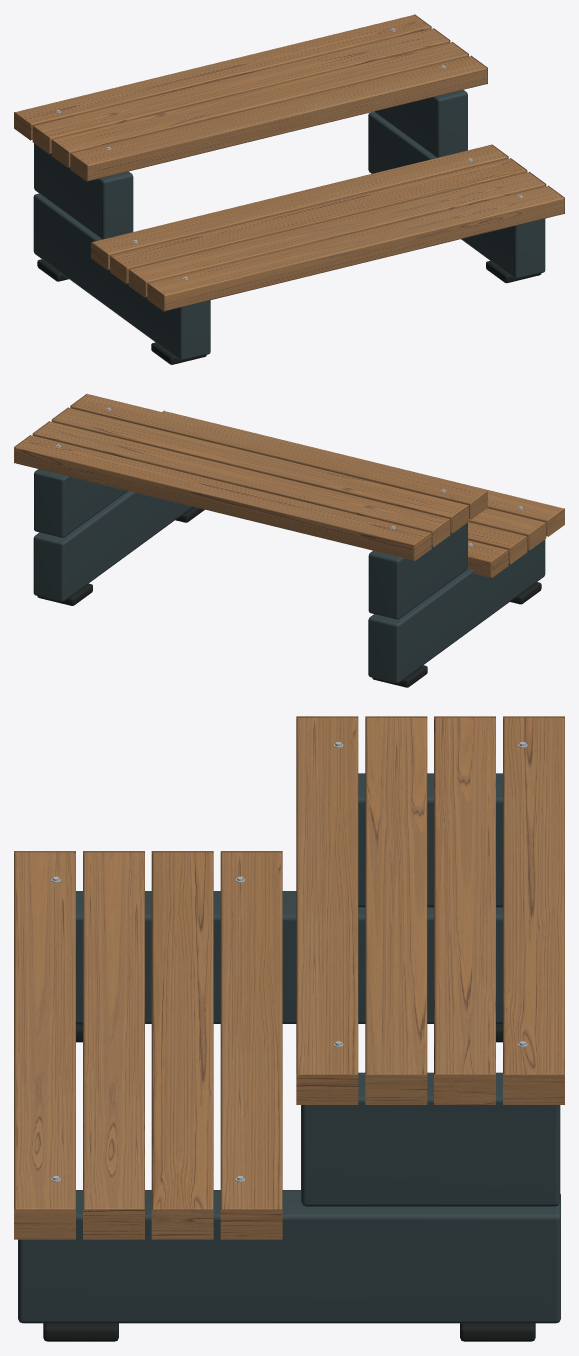
Rendered from outdoor-deck-step.glb.
3 renders of one model, top to bottom at view 1: azimuth 30°, elevation 25°; view 2: azimuth 150°, elevation 25°; view 3: azimuth 270°, elevation 25°, orthographic. The views are drawn at different scales.
Visible parts, largest first — view 1: outdoor-deck-step authored assembly; view 2: outdoor-deck-step authored assembly; view 3: outdoor-deck-step authored assembly.
Boxes of the visible parts, x1=… form: outdoor-deck-step authored assembly: x1=14, y1=14, x2=564, y2=364; outdoor-deck-step authored assembly: x1=14, y1=393, x2=564, y2=687; outdoor-deck-step authored assembly: x1=14, y1=716, x2=564, y2=1341.
Size of the model in its own units: 1 by 0.37 by 0.65.
Materials: 6 (3 with a texture image).
